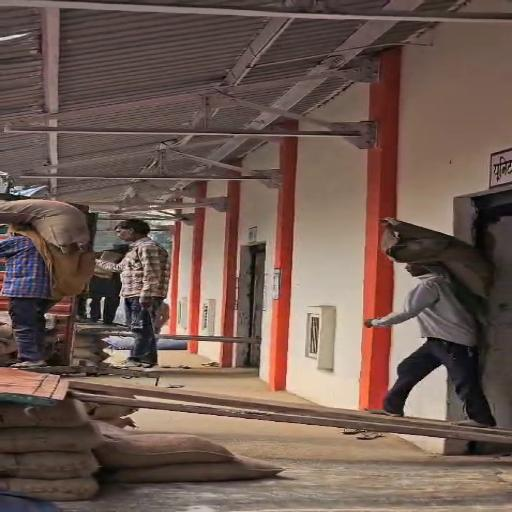bag: (370, 211, 508, 304), (0, 185, 102, 252)
